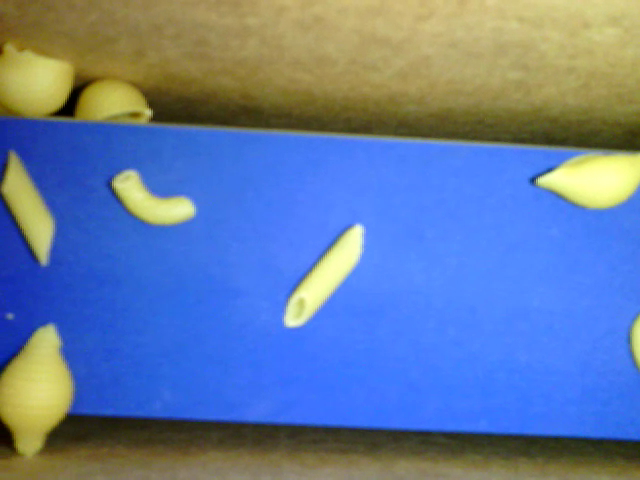elbow: (110, 170, 197, 225)
penne: (283, 224, 364, 327), (1, 150, 54, 265)
shell: (1, 323, 74, 456), (534, 152, 639, 208), (1, 42, 74, 116), (75, 79, 151, 125)
